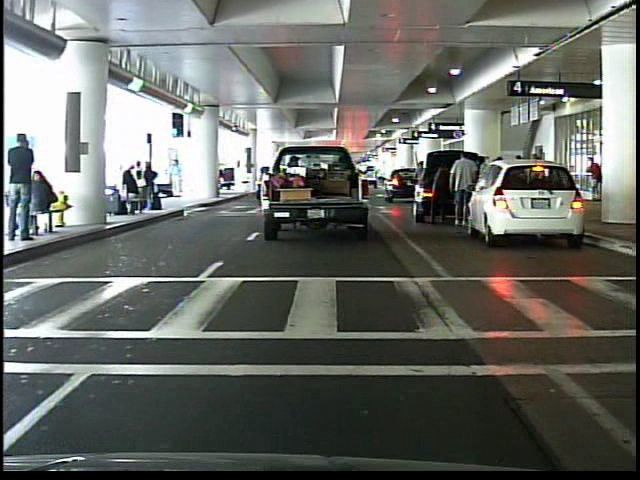person: (7, 133, 42, 247), (450, 148, 477, 230), (582, 154, 607, 205), (411, 157, 430, 214), (169, 158, 186, 201)
